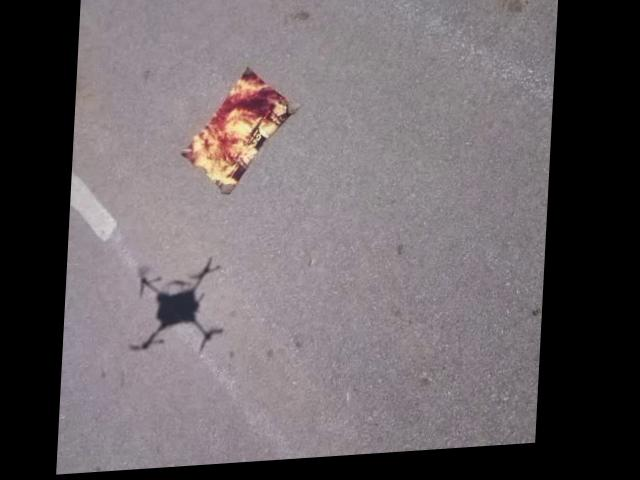fire-poster: (177, 66, 303, 203)
